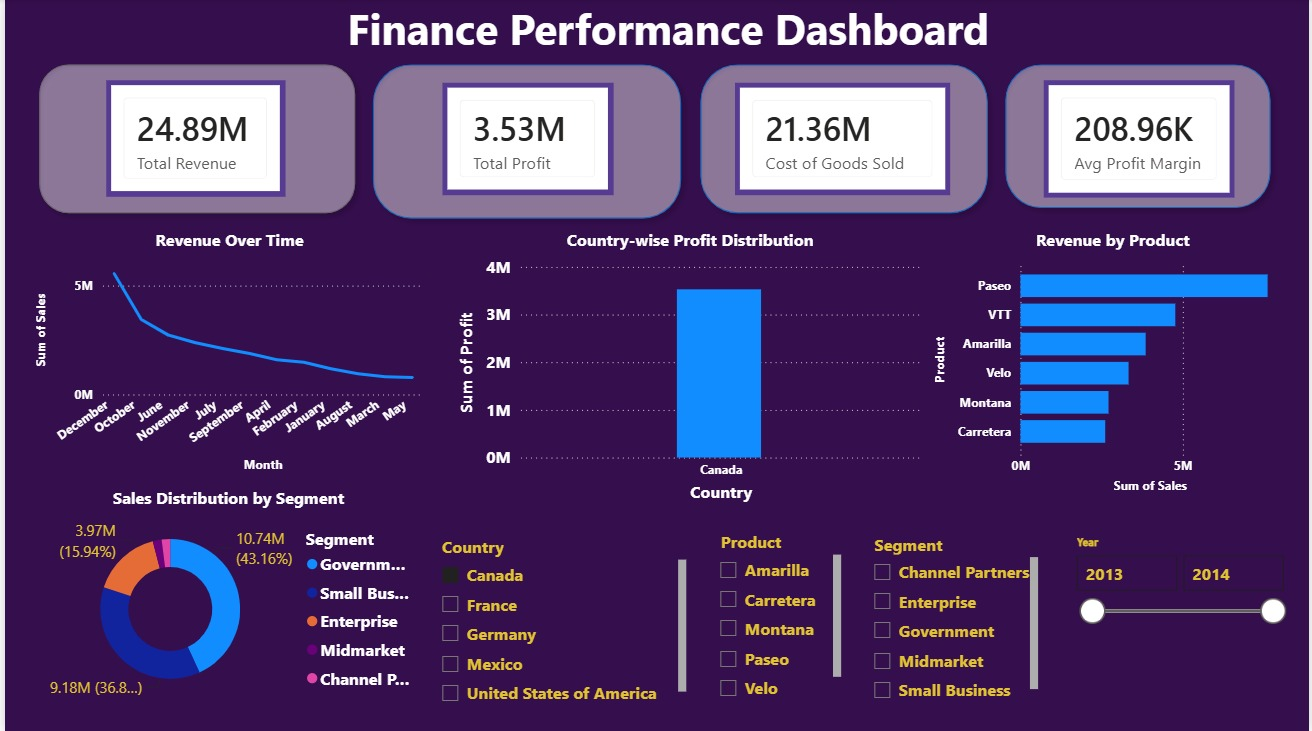

This screenshot's page, from the dashboard's own definition file:
{"tool":"powerbi","page":{"name":"Page 1","canvas":[1280,720],"ordinal":0},"visuals":[{"type":"shape","box":[24.4,55.1,328.2,164.1],"z":0},{"type":"cardVisual","fields":{"Data":["Sum(financials. Sales)"]},"box":[100,79.5,175.6,114.1],"z":1000},{"type":"shape","box":[352.6,55.1,320.5,169.2],"z":2000},{"type":"cardVisual","fields":{"Data":["Sum(financials.Profit)"]},"box":[429.5,82.1,167.9,110.3],"z":3000},{"type":"shape","box":[673.1,55.1,300,164.1],"z":4000},{"type":"cardVisual","fields":{"Data":["Sum(financials.COGS)"]},"box":[716.7,82.1,211.5,110.3],"z":5000},{"type":"lineChart","title":"Revenue Over Time","fields":{"Category":["financials.Month Name"],"Y":["Sum(financials. Sales)"]},"box":[25.6,224.4,389.7,244.9],"z":6000},{"type":"clusteredColumnChart","title":"Country-wise Profit Distribution","fields":{"Category":["financials.Country"],"Y":["Sum(financials.Profit)"]},"box":[441,224.4,464.1,274.4],"z":7000},{"type":"clusteredBarChart","title":"Revenue by Product","fields":{"Category":["financials.Product"],"Y":["Sum(financials. Sales)"]},"box":[907.7,224.4,359,265.4],"z":8000},{"type":"donutChart","title":"Sales Distribution by Segment","fields":{"Category":["financials.Segment"],"Y":["Sum(financials. Sales)"]},"box":[24.4,478.2,389.7,219.2],"z":9000},{"type":"slicer","fields":{"Values":["financials.Country"]},"box":[415.4,521.8,257.7,175.6],"z":10000},{"type":"slicer","fields":{"Values":["financials.Product"]},"box":[689.7,516.7,135.9,178.2],"z":11000},{"type":"slicer","fields":{"Values":["financials.Segment"]},"box":[841,519.2,178.2,175.6],"z":12000},{"type":"slicer","fields":{"Values":["financials.Year"]},"box":[1039.7,521.8,226.9,98.7],"z":13000},{"type":"shape","box":[973.1,55.1,278.2,159],"z":14000},{"type":"cardVisual","fields":{"Data":["Sum(financials.Profit Margin)"]},"box":[1019.2,79.5,187.2,115.4],"z":15000},{"type":"actionButton","title":"Finance Performance Dashboard","box":[188.5,0,924.4,55.1],"z":16000}]}

Visuals, with their boxes in screenshot pixels (x1, y1, x2, y2), scaled from the page's 1280x720 canvas onto the 1312x731 screenshot:
shape: 25/56/361/223
cardVisual - Sum(financials. Sales): 102/81/282/197
shape: 361/56/690/228
cardVisual - Sum(financials.Profit): 440/83/612/195
shape: 690/56/997/223
cardVisual - Sum(financials.COGS): 735/83/951/195
"Revenue Over Time" lineChart: 26/228/426/476
"Country-wise Profit Distribution" clusteredColumnChart: 452/228/928/506
"Revenue by Product" clusteredBarChart: 930/228/1298/497
"Sales Distribution by Segment" donutChart: 25/486/424/708
slicer - financials.Country: 426/530/690/708
slicer - financials.Product: 707/525/846/706
slicer - financials.Segment: 862/527/1045/705
slicer - financials.Year: 1066/530/1298/630
shape: 997/56/1283/217
cardVisual - Sum(financials.Profit Margin): 1045/81/1237/198
"Finance Performance Dashboard" actionButton: 193/0/1141/56
